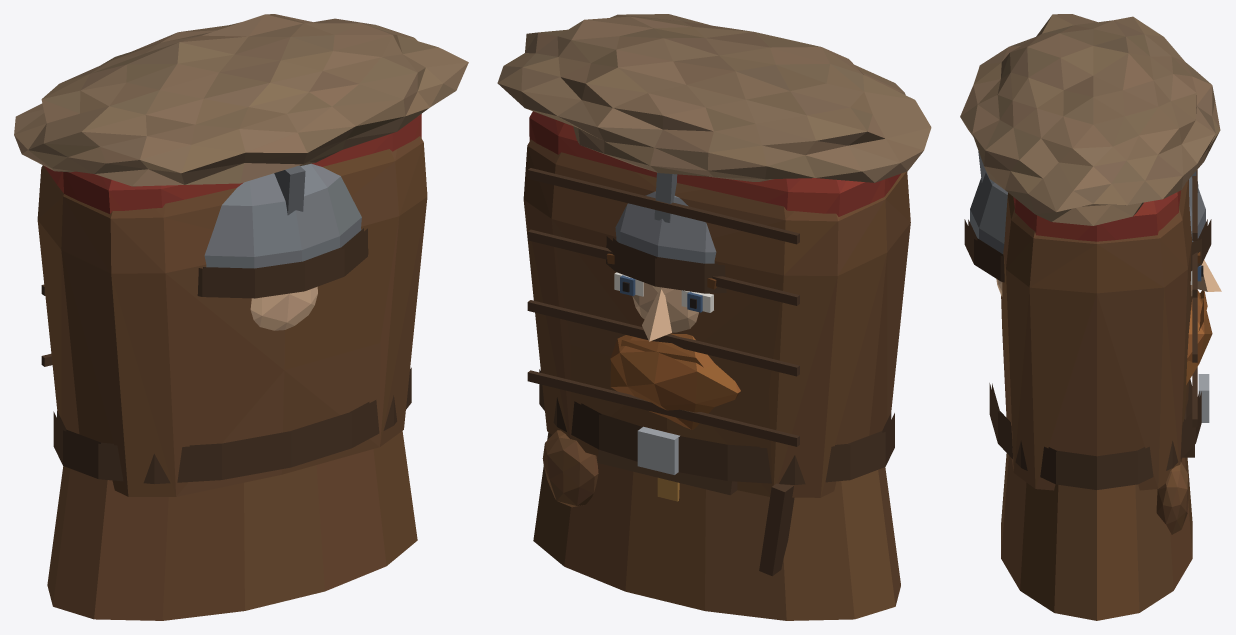
File: Settler_Man_3.glb
3 views of the same model, side by side, from view 1: azimuth 30°, elevation 25°; view 2: azimuth 150°, elevation 25°; view 3: azimuth 270°, elevation 25° (orthographic). The views are drawn at different scales.
Visible parts, largest first — view 1: Body, Head; view 2: Body, Head, Leg; view 3: Body, Head.
Part boxes in pixels (box(x1,y1,x2,y2)): Body: box(14, 14, 468, 620); Head: box(197, 163, 368, 330); Body: box(497, 14, 931, 620); Head: box(606, 172, 740, 501); Leg: box(597, 449, 737, 495); Body: box(960, 14, 1220, 620); Head: box(964, 151, 1221, 384).
Bounding box in the file's own units: 2.48 × 2.91 × 1.47.
1 material, 1 textured.
